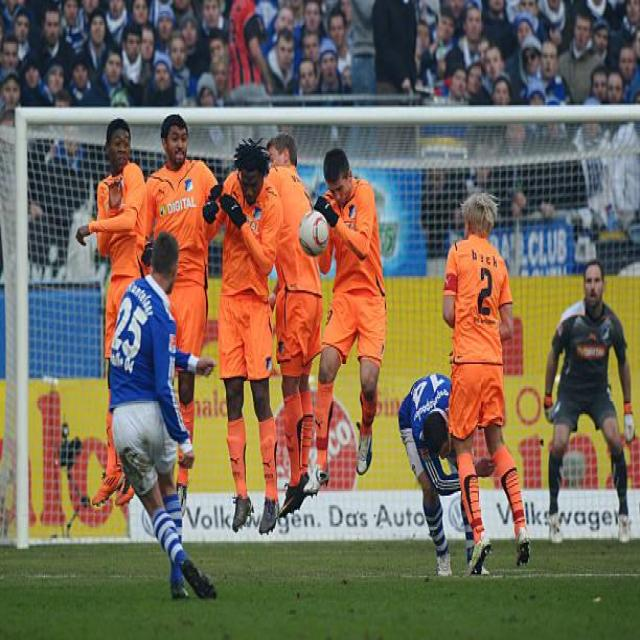ball: (297, 208, 329, 256)
player: (91, 226, 220, 610), (440, 187, 529, 577), (312, 146, 394, 486), (212, 135, 282, 533), (540, 263, 638, 546), (148, 108, 218, 444), (270, 118, 323, 511), (78, 119, 150, 355), (397, 347, 458, 571)
